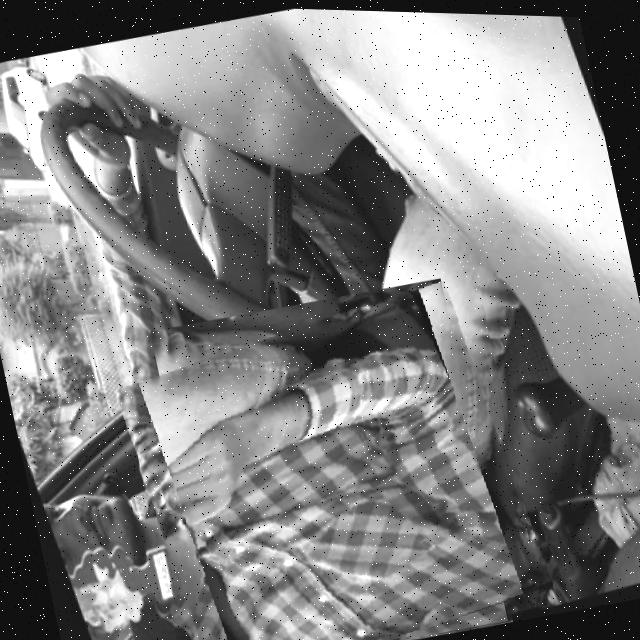no-seatbelt: (115, 273, 549, 640)
